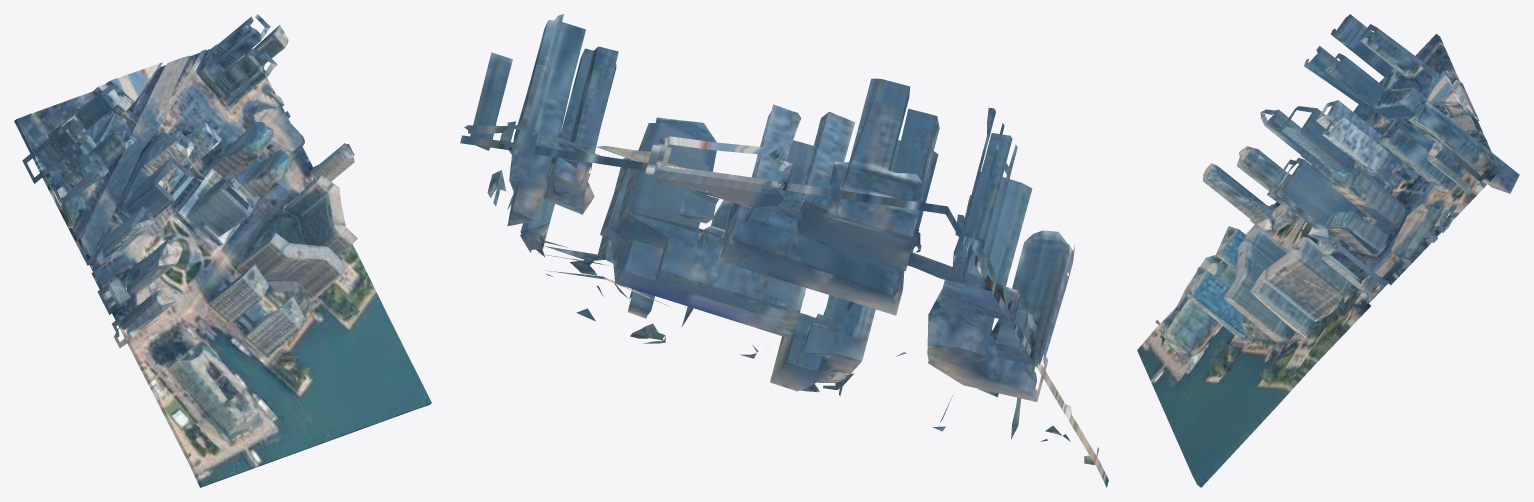
File: AJVsH2xZlWubgJ8m8c4nYRLsZIFeiGc54_IW_Ktq6NzqyS_IUfuhMo_2TugPfRmVLk7oaZ8PVe1YV1x-kV5YdjJ2A_h72r4titymZ8W2rEBPmQaAGR4S8Gt-U1IARG-SMG-GyxDXFVfO3VCEohE7PhEuTxXUvp_3tw.glb
3 views of the same model, side by side, from view 1: azimuth 30°, elevation 25°; view 2: azimuth 150°, elevation 25°; view 3: azimuth 270°, elevation 25° (orthographic). The views are drawn at different scales.
Size of the model in its own units: 514 by 536 by 526.
1 material, 1 textured.
